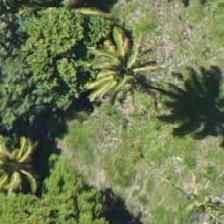coconut_tree: (75, 27, 165, 117)
